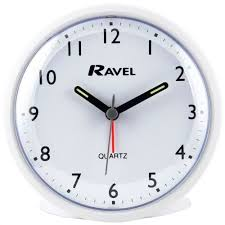alarm_clock: (9, 4, 219, 219), (17, 4, 219, 219), (17, 4, 214, 219), (17, 20, 214, 219)
